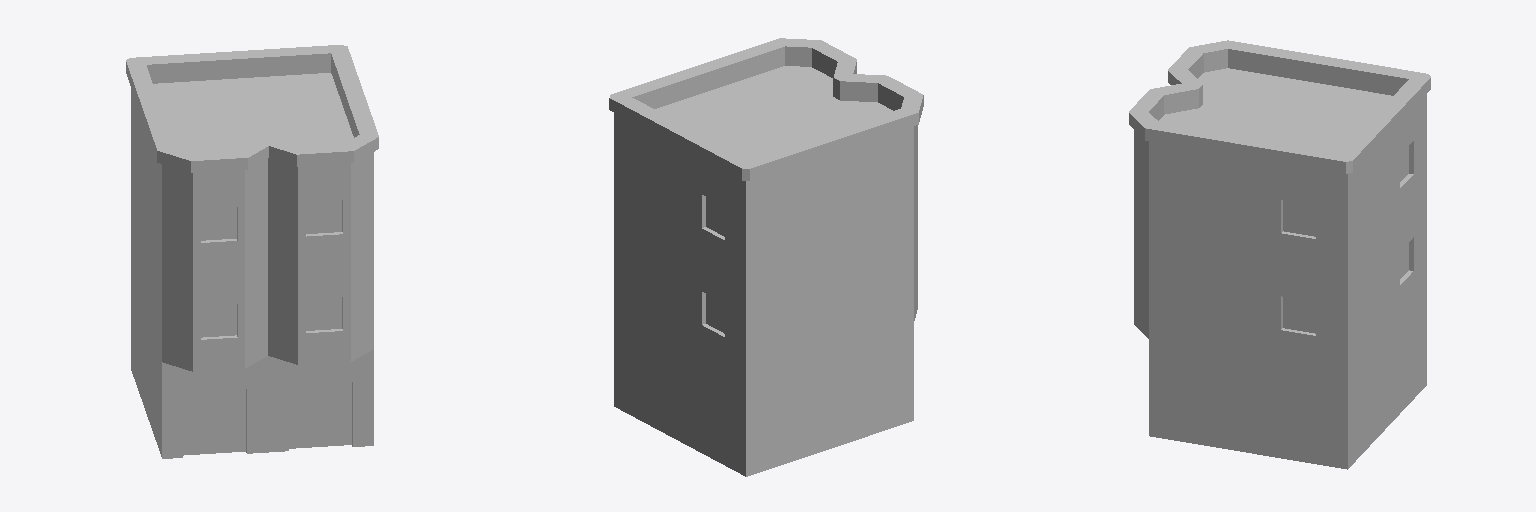
File: variant_22.obj
3 views of the same model, side by side, from view 1: azimuth 30°, elevation 25°; view 2: azimuth 150°, elevation 25°; view 3: azimuth 270°, elevation 25° (orthographic).
Visible parts, largest first — view 1: small_buildingA; view 2: small_buildingA; view 3: small_buildingA.
Boxes of the visible parts, x1,y1,x2,y2 form: small_buildingA: [126, 45, 378, 458]; small_buildingA: [609, 38, 923, 476]; small_buildingA: [1129, 40, 1430, 469].
Size of the model in its own units: 1.08 by 1.28 by 1.13.